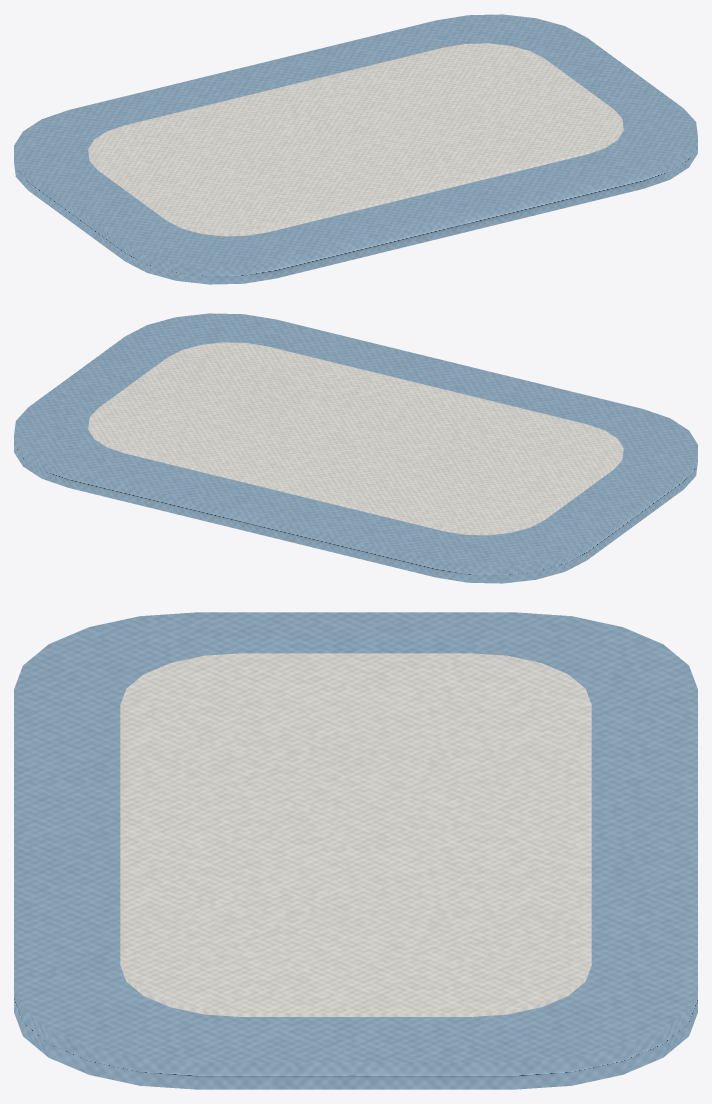
Rendered from prop_bath_mat.glb.
3 renders of one model, top to bottom at view 1: azimuth 30°, elevation 25°; view 2: azimuth 150°, elevation 25°; view 3: azimuth 270°, elevation 25°, orthographic. The views are drawn at different scales.
Visible parts, largest first — view 1: prop_bath_mat; view 2: prop_bath_mat; view 3: prop_bath_mat.
Boxes of the visible parts, x1,y1,x2,y2 form: prop_bath_mat: [14, 14, 697, 284]; prop_bath_mat: [14, 313, 697, 583]; prop_bath_mat: [14, 612, 697, 1089].
Size of the model in its own units: 0.875 by 0.0288 by 0.5625.
2 materials, 2 textured.
